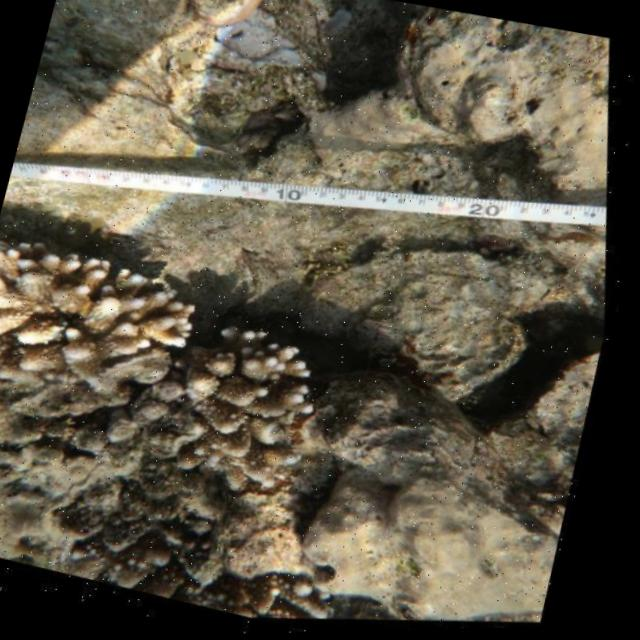Healthy Coral: (0, 219, 210, 393), (168, 303, 349, 493)
